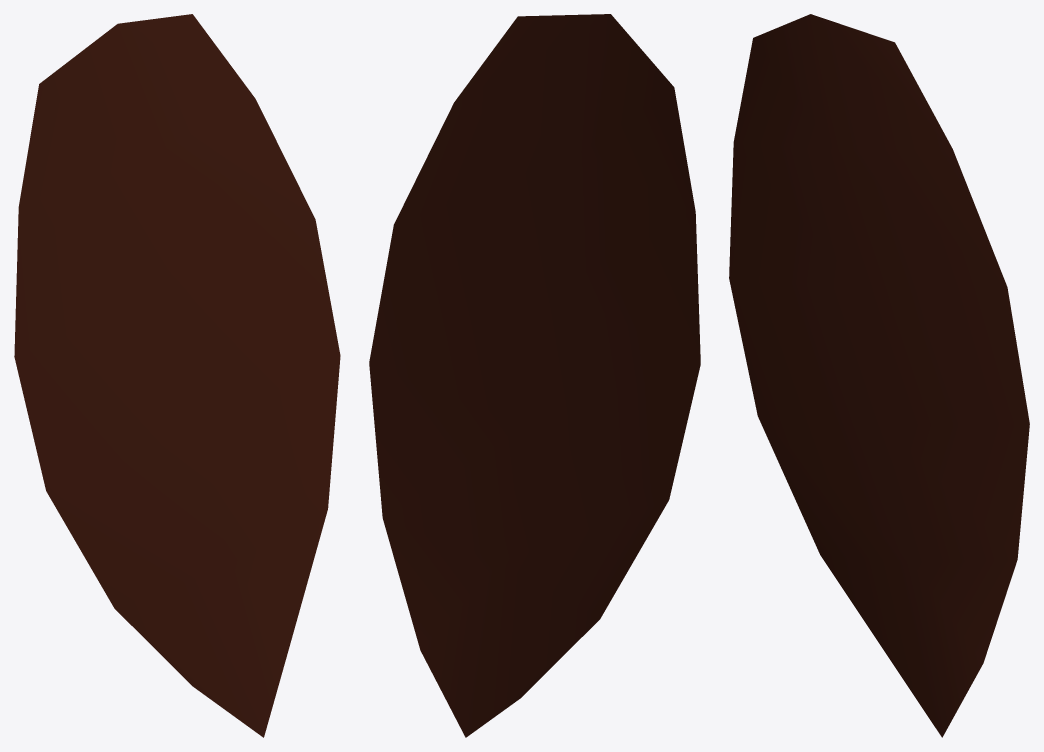
Rendered from rooster_feather_flight_tertiary_018.obj.
3 renders of one model, left to right at view 1: azimuth 30°, elevation 25°; view 2: azimuth 150°, elevation 25°; view 3: azimuth 330°, elevation 25°, orthographic. The views are drawn at different scales.
Parts seen in each view (by area): view 1: feather_flight_tertiary_018; view 2: feather_flight_tertiary_018; view 3: feather_flight_tertiary_018.
Part boxes in pixels (x1=…): feather_flight_tertiary_018: x1=14, y1=14, x2=340, y2=737; feather_flight_tertiary_018: x1=369, y1=14, x2=700, y2=737; feather_flight_tertiary_018: x1=729, y1=14, x2=1029, y2=737.
Bounding box in the file's own units: 0.0115 × 0.0251 × 0.000609.
